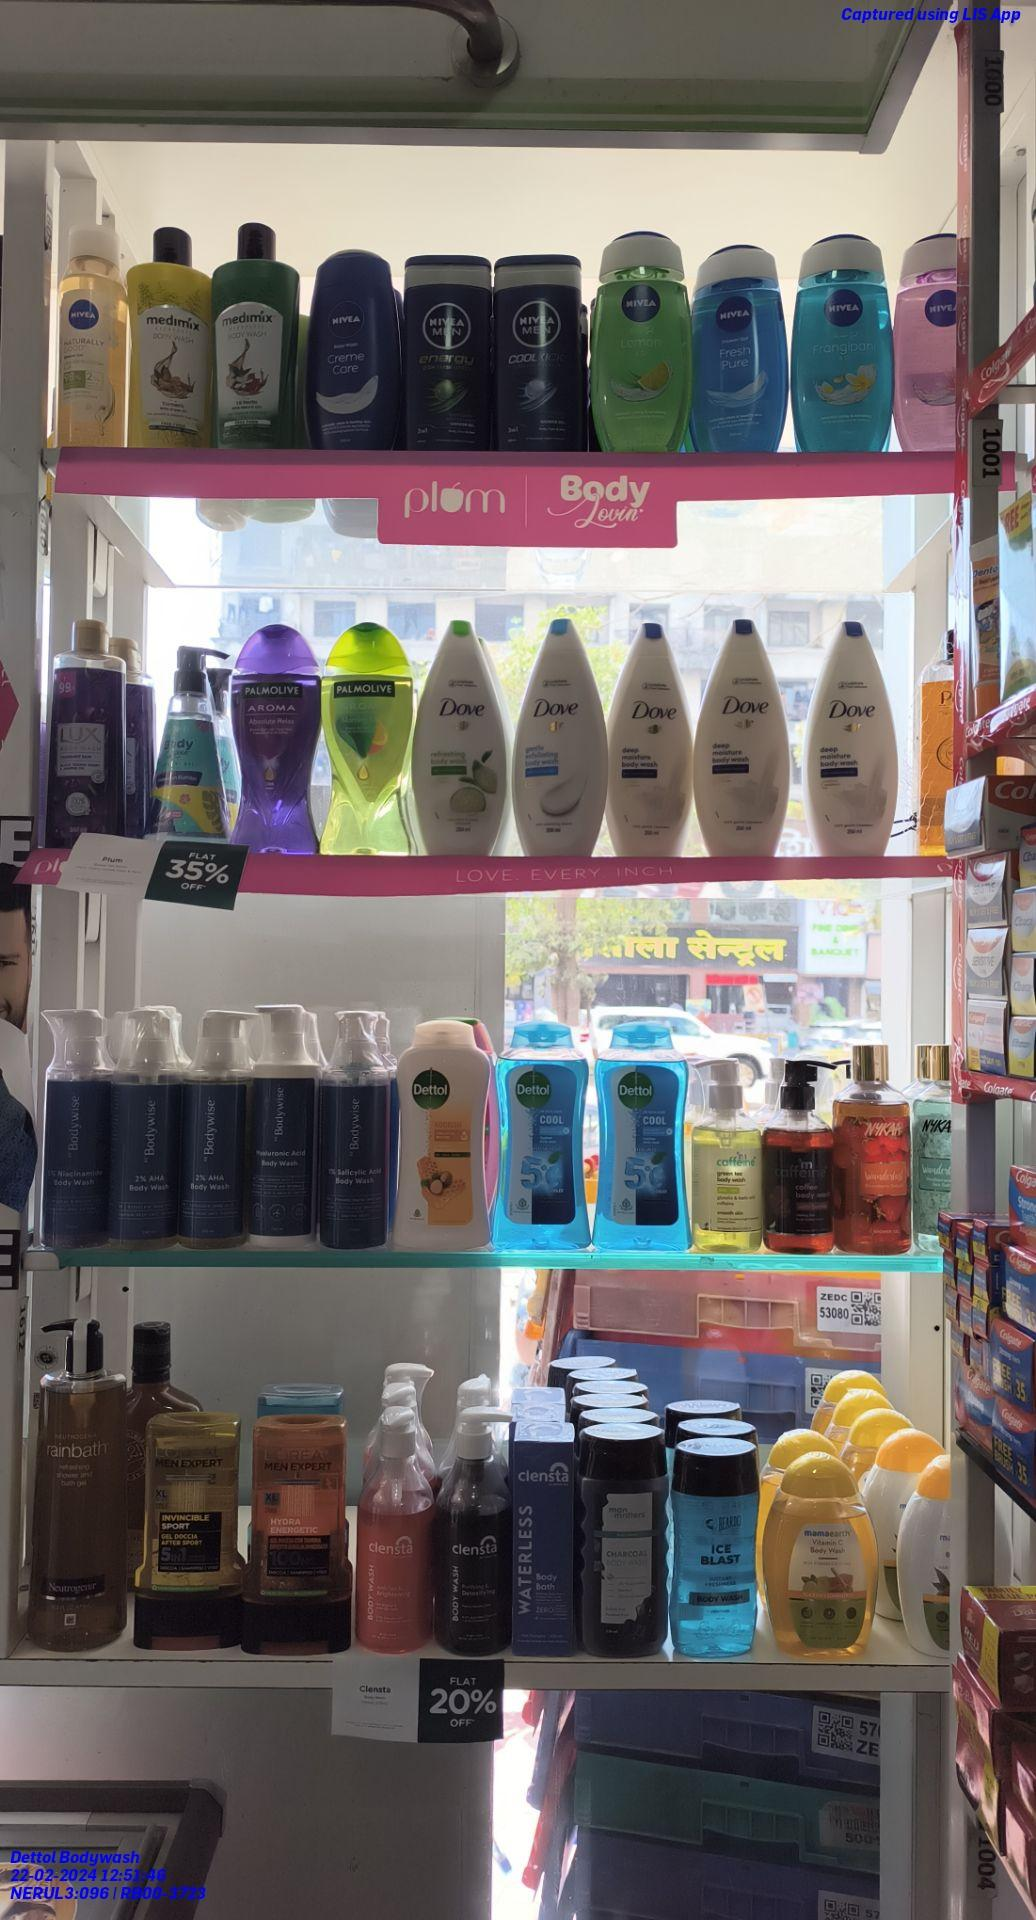Dettol_Bodywash_Cool: (595, 1013, 686, 1250), (503, 1017, 587, 1246)
Dettol_Nourish_Body_Wash_250ML: (392, 1018, 492, 1249)
Dove_Deep_Moisture_Body_Wash_250ML: (693, 617, 790, 857), (806, 606, 896, 851), (605, 610, 686, 857)
Dove_Gentle_Exfoliating_Body_Wash_250ML: (510, 620, 598, 860)
Dove_Refreshing_Body_Wash_250ML: (418, 616, 499, 857)
Lux_Black_Orchid_Scent_and_Juniper_Oil_Body_Wash_245ML: (43, 612, 121, 829)
Nivea_Creme_Care_Body_Wash_250ML: (306, 249, 399, 449)
Nivea_Shower_Gel_Frangipani_and_Oil_250ML: (788, 233, 893, 452)
Nivea_Shower_Gel_Lemon_and_Oil_250ML: (593, 228, 693, 458)
Palmolive_Aroma_Morning_Tonic_Shower_Gel_250ML: (324, 620, 407, 852)
Palmolive_Aroma_Relax_250ML: (235, 617, 315, 852)
